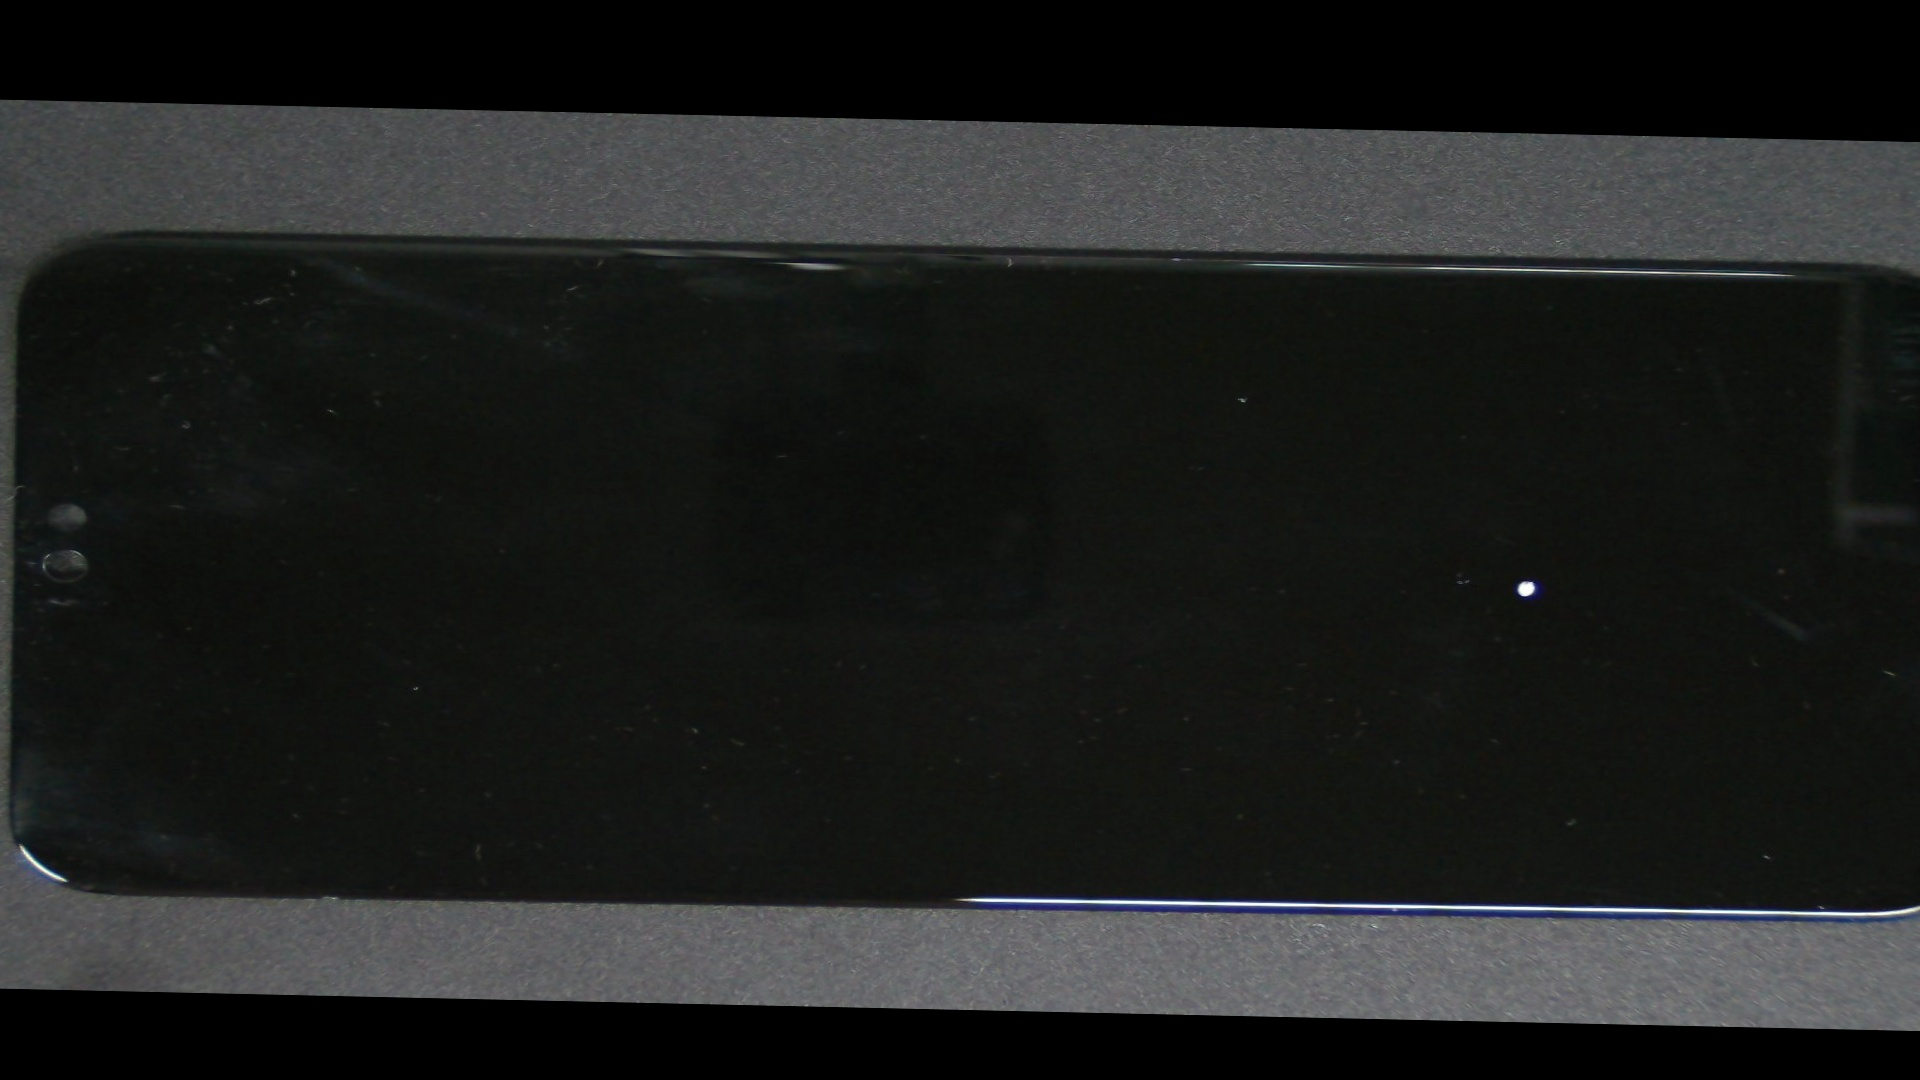oil: (702, 338, 1920, 815)
